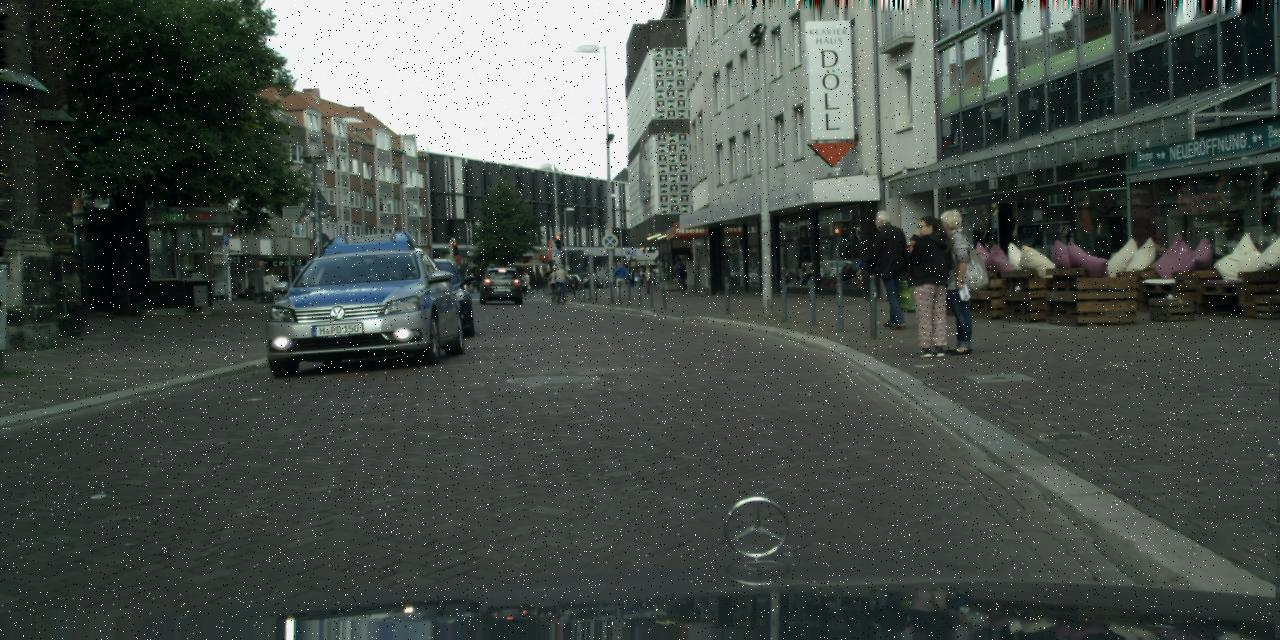ped: (926, 208, 985, 354), (900, 216, 959, 356), (866, 210, 914, 328), (673, 258, 688, 296), (612, 261, 626, 297), (554, 264, 568, 298), (641, 262, 653, 292), (518, 271, 528, 298), (521, 270, 531, 296), (550, 265, 560, 291), (548, 267, 556, 288), (638, 268, 646, 288), (627, 269, 635, 287), (649, 268, 656, 288)
